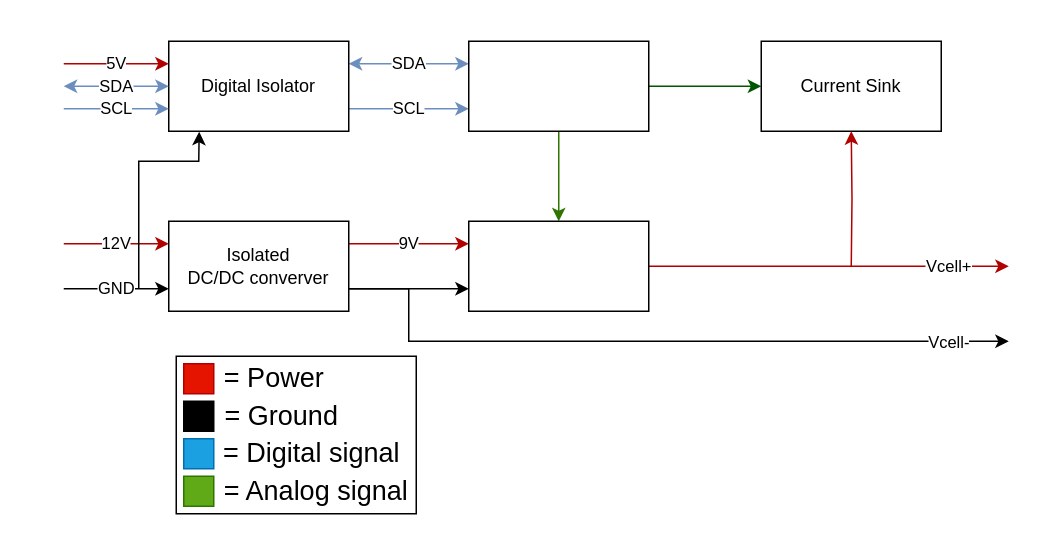
Some shapes in this 1047 by 540 pixel diagram are drawn without their labels. Here are the shapes that lost their labels. From the top down, the centre of each, then its label:
At [558,85]: "[Digital] Potentiometer".
At [558,265]: "Regulator".
